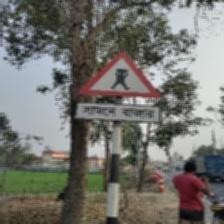Market-in-front: (75, 50, 164, 125)
